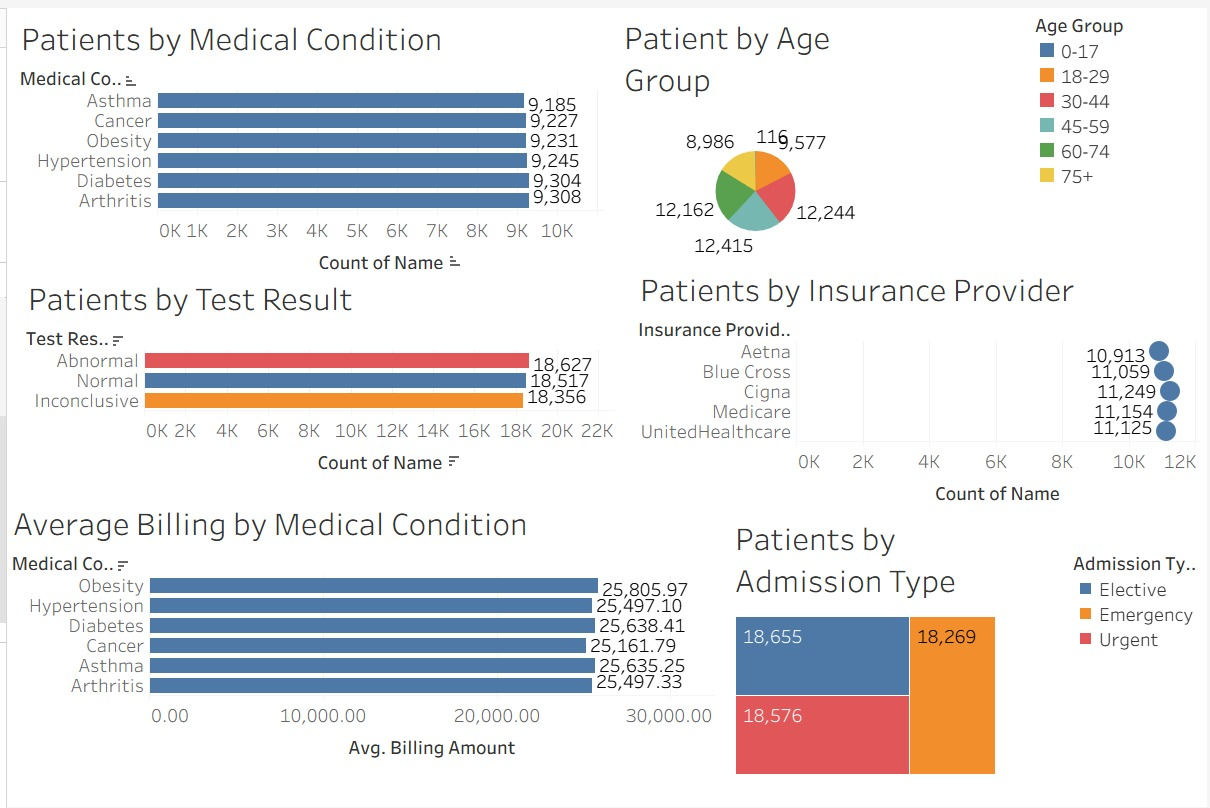

This screenshot's page, from the dashboard's own definition file:
{"tool":"tableau","page":{"name":"Dashboard 2","canvas":[1200,800],"ordinal":1},"visuals":[{"type":"worksheet","title":"Patient by Age Group","mark":"Pie","box":[613.2,4,399.6,280]},{"type":"legend","title":"Patient by Age Group","param":"[federated.1drsf820k3lwba1fzhyl51oss1bw].[none:Calculation_0729012375506946:nk]","box":[1028.4,4,168,176]},{"type":"worksheet","title":"Patients by Medical Condition","mark":"Bar","rows":["Medical Condition"],"cols":["Name"],"box":[9.6,5,588,289]},{"type":"worksheet","title":"Patients by Insurance Provider","mark":"Circle","rows":["Insurance Provider"],"cols":["Name"],"box":[628.8,256,562.8,260]},{"type":"worksheet","title":"Patients by Test Result","mark":"Automatic","rows":["Test Results"],"cols":["Name"],"box":[16.8,265,591.6,266]},{"type":"worksheet","title":"Average Billing by Medical Condition","mark":"Bar","rows":["Medical Condition"],"cols":["Billing Amount"],"box":[2.4,490,705.6,296]},{"type":"worksheet","title":"Patients by Admission Type","mark":"Automatic","box":[724,505,362,266]},{"type":"legend","title":"Patients by Admission Type","param":"[federated.1drsf820k3lwba1fzhyl51oss1bw].[none:Admission Type:nk]","box":[1066,542,131,101]}]}

Visuals, with their boxes in screenshot pixels (x1, y1, x2, y2), scaled from the page's 1200x800 canvas onto the 1210x808 screenshot:
"Patient by Age Group" worksheet (Pie marks): (618,4,1021,287)
"Patient by Age Group" legend: (1037,4,1206,182)
"Patients by Medical Condition" worksheet (Bar marks): (10,5,603,297)
"Patients by Insurance Provider" worksheet (Circle marks): (634,259,1202,521)
"Patients by Test Result" worksheet: (17,268,613,536)
"Average Billing by Medical Condition" worksheet (Bar marks): (2,495,714,794)
"Patients by Admission Type" worksheet: (730,510,1095,779)
"Patients by Admission Type" legend: (1075,547,1207,649)
